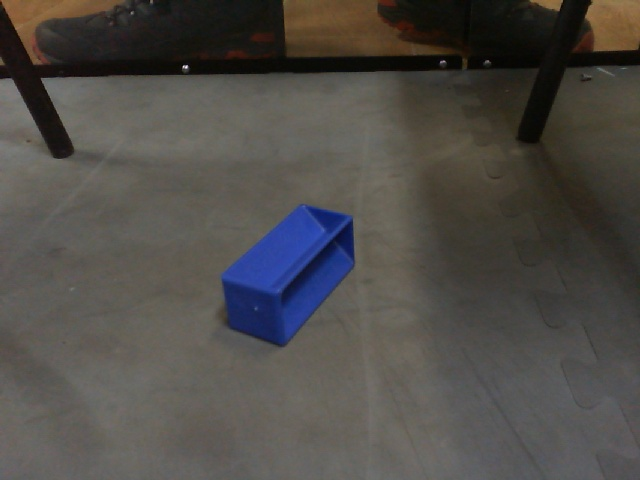BlueSample: (219, 202, 357, 353)
